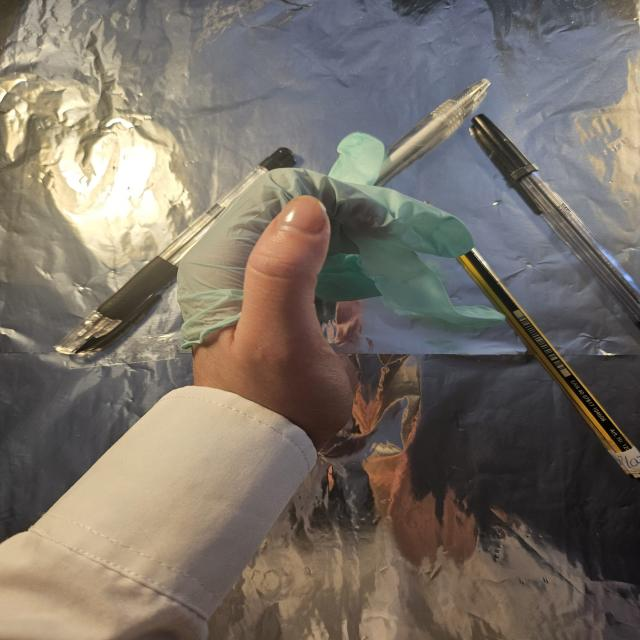glove_partial: (174, 130, 507, 448)
